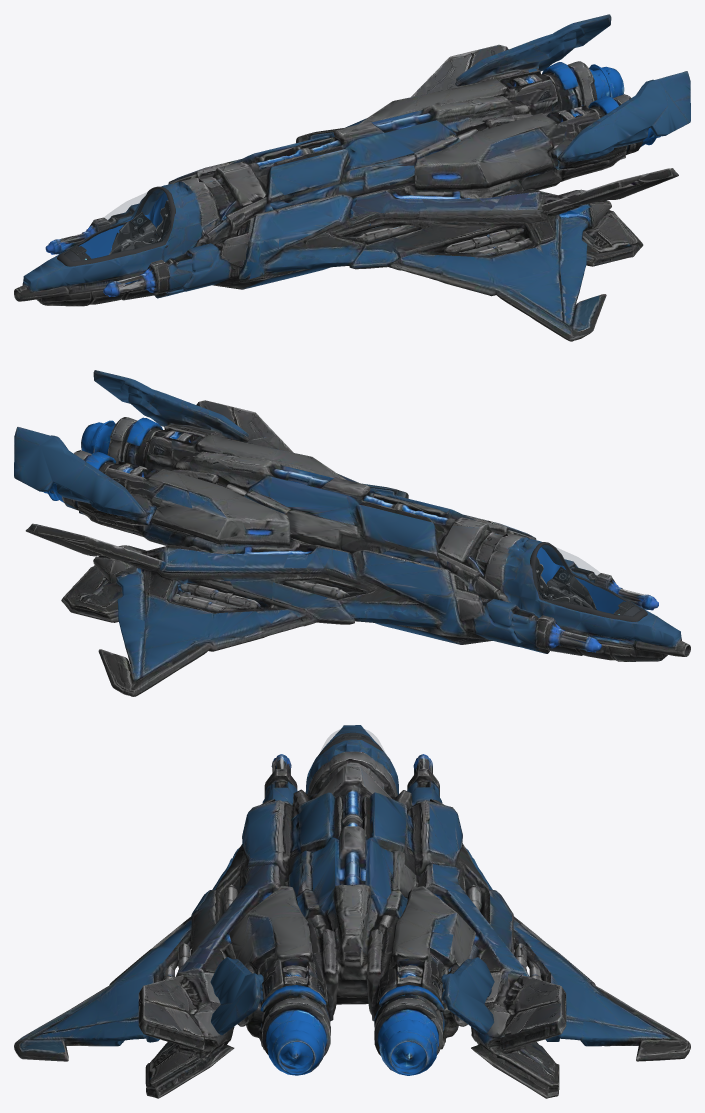
The model's file is syphon.glb.
3 views of the same model, one above another, from view 1: azimuth 30°, elevation 25°; view 2: azimuth 150°, elevation 25°; view 3: azimuth 270°, elevation 25° (orthographic). The views are drawn at different scales.
Visible parts, largest first — view 1: syphon_game_hull, syphon_game_glass, syphon_game_cockpit, syphon_game_canopy_frame, syphon_game_tub; view 2: syphon_game_hull, syphon_game_glass, syphon_game_cockpit, syphon_game_canopy_frame, syphon_game_tub; view 3: syphon_game_hull.
Part boxes in pixels (<box>): syphon_game_hull: <box>14,14,690,341</box>; syphon_game_glass: <box>63,189,171,260</box>; syphon_game_cockpit: <box>109,200,170,254</box>; syphon_game_canopy_frame: <box>57,186,175,266</box>; syphon_game_tub: <box>79,192,188,258</box>; syphon_game_hull: <box>14,370,690,696</box>; syphon_game_glass: <box>533,545,641,615</box>; syphon_game_cockpit: <box>535,557,596,609</box>; syphon_game_canopy_frame: <box>530,542,647,621</box>; syphon_game_tub: <box>514,547,625,613</box>; syphon_game_hull: <box>14,725,690,1098</box>.
Bounding box in the file's own units: 1.9 × 0.424 × 1.43.
8 materials, 3 textured.
